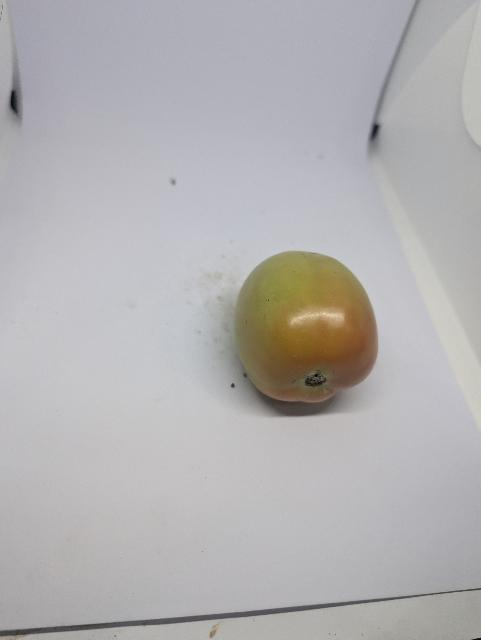breaker: (235, 251, 378, 403)
